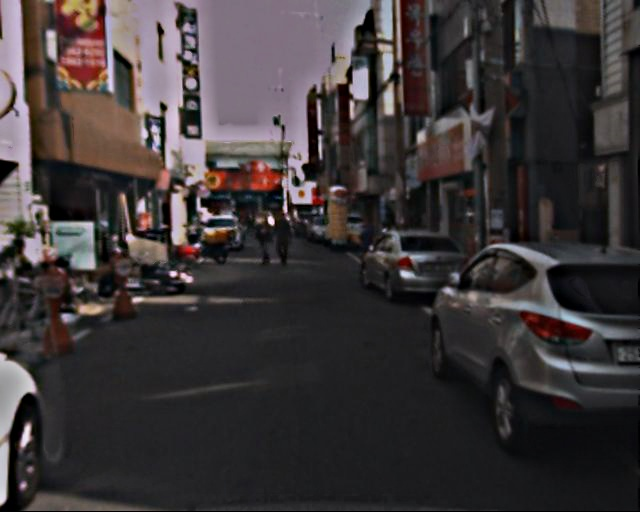person: (273, 213, 298, 278), (358, 214, 382, 281), (256, 218, 277, 275)
